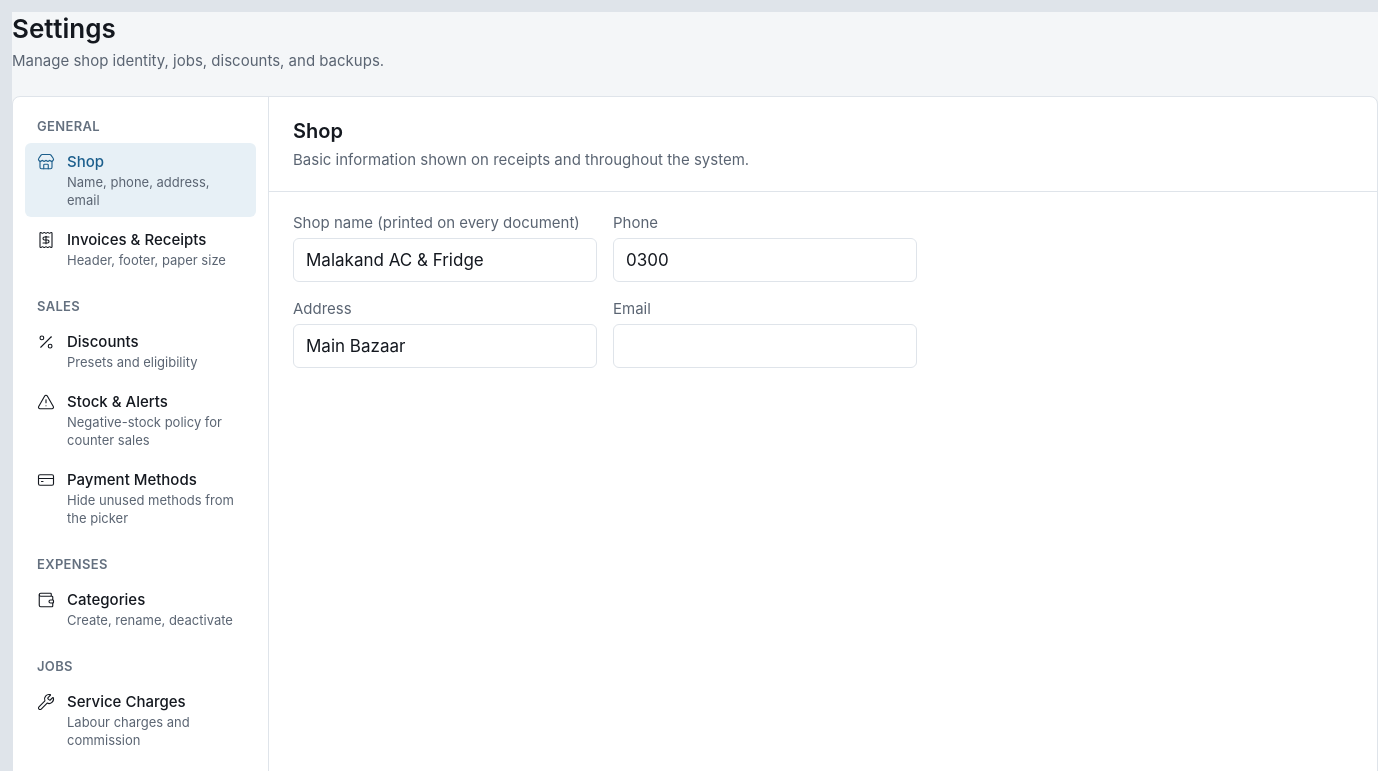
Test: SettingsPage — P16-1b routing (OD-16-11) › clicking "Invoices & Receipts" in the sub-nav routes to its section and shows its title
The image size is (1378, 771).
Expected: the text "Basic information shown on receipts and throughout the system." is shown, left=293, top=150, right=749, bottom=169
Click the link "Invoices & Receipts Header, footer, paper size" at (132, 249), box left=37, top=230, right=226, bottom=268
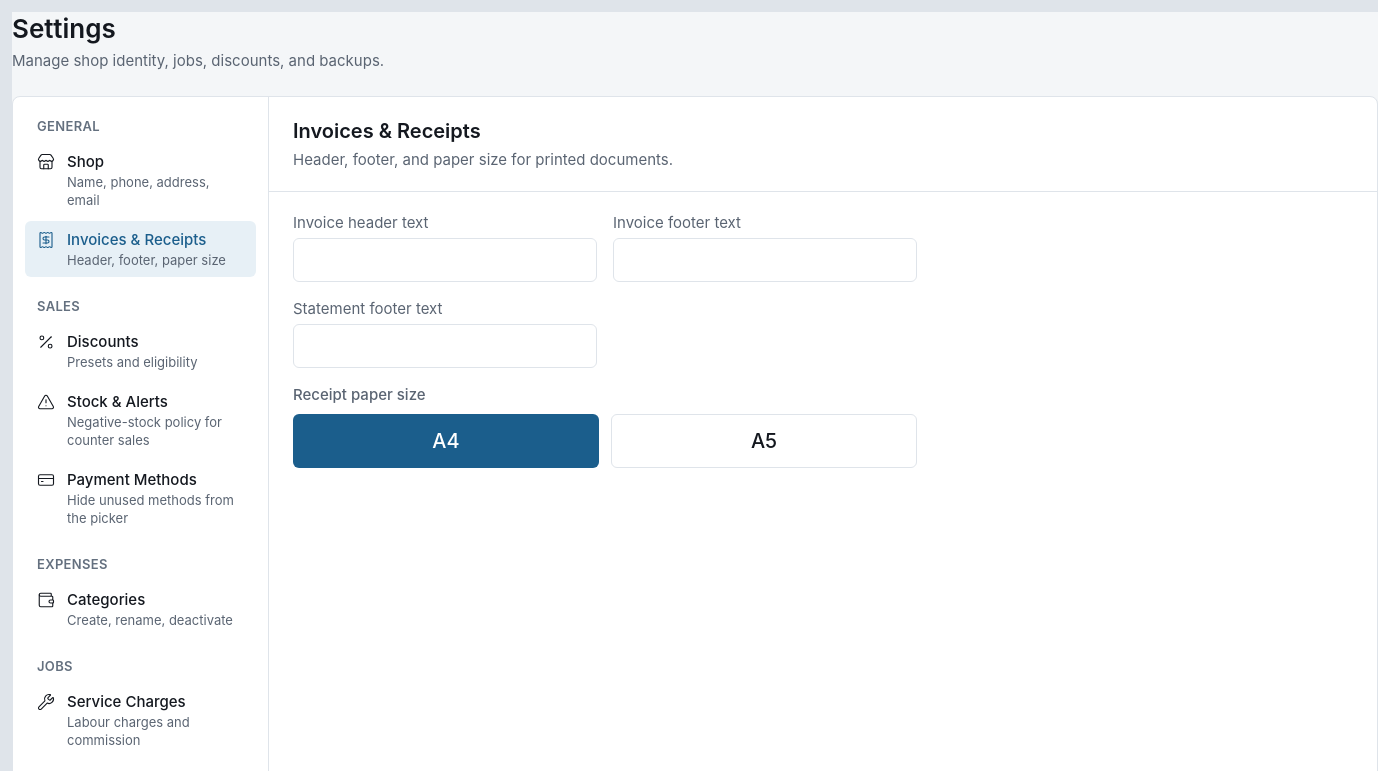
Now the heading "Invoices & Receipts" is shown, box left=293, top=119, right=481, bottom=143
